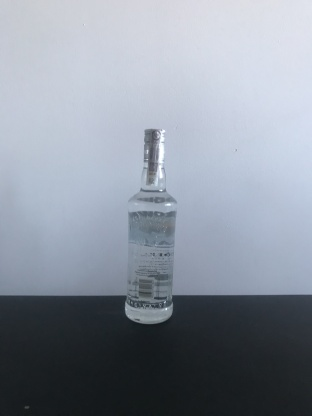nakretka: (141, 123, 168, 164)
